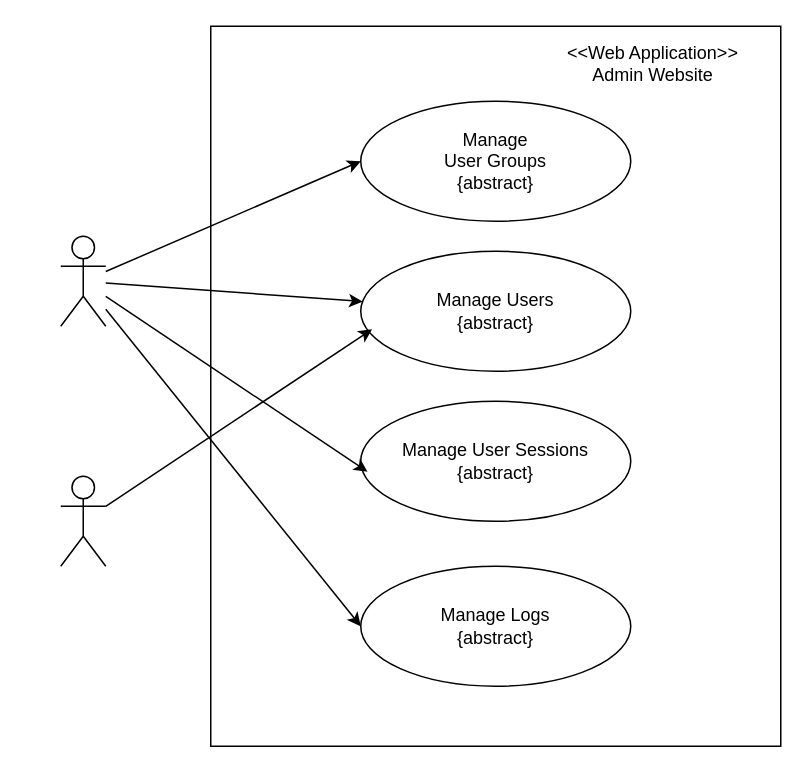
Image size: 807x773. Some labels were removed from this diagram. The box of each missing label's shape, as (x1, y1, x2, y2) in pixels:
Help Desk: (59, 475, 106, 566)
Website Administration: (59, 235, 106, 326)
